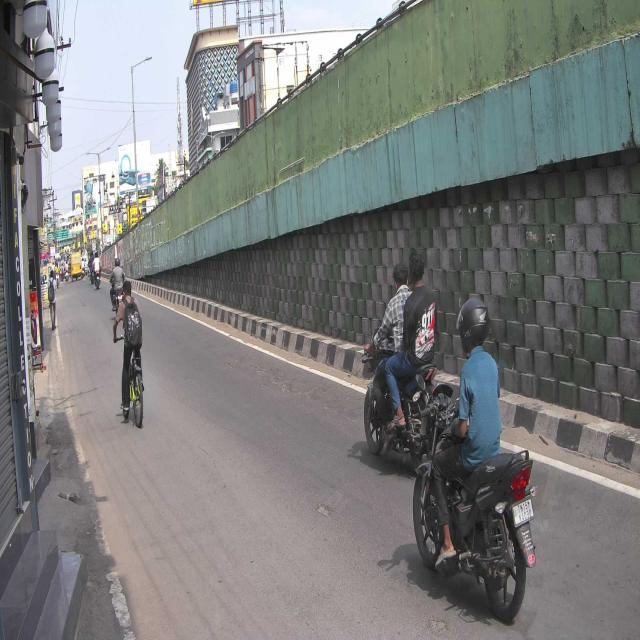double_rider: (360, 246, 439, 458)
single_rider: (445, 293, 536, 624)
